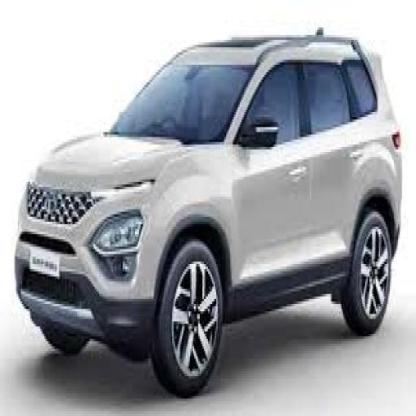car: (12, 27, 405, 398)
